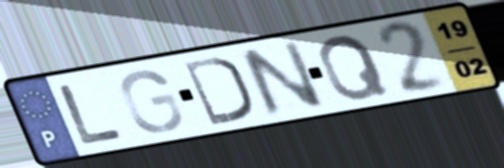2: (377, 16, 451, 101)
D: (179, 53, 255, 128)
G: (117, 68, 186, 135)
L: (53, 81, 128, 147)
N: (234, 37, 329, 121)
Q: (316, 32, 393, 104)
